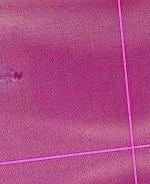knot: (4, 67, 30, 87)
